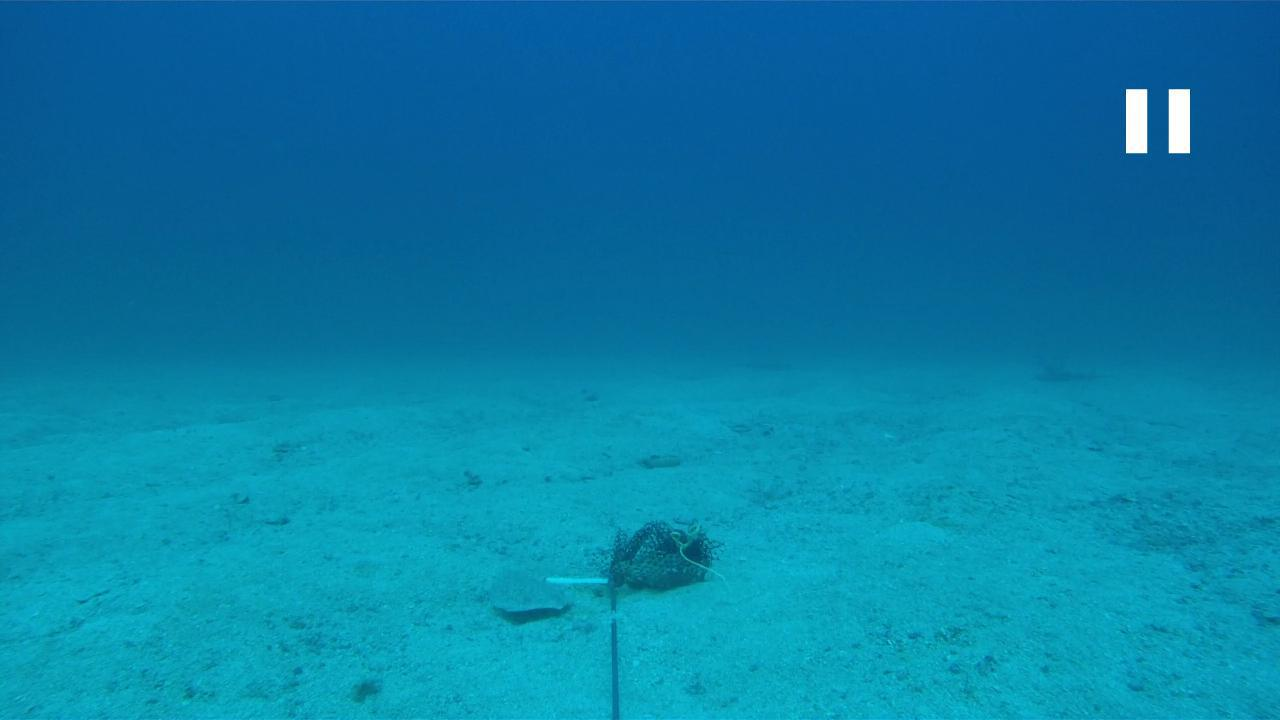bothus: (486, 568, 570, 620)
